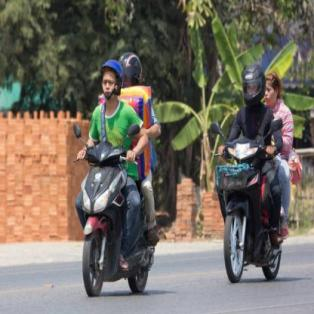Motocicleta: (67, 118, 156, 305), (206, 110, 282, 284)
